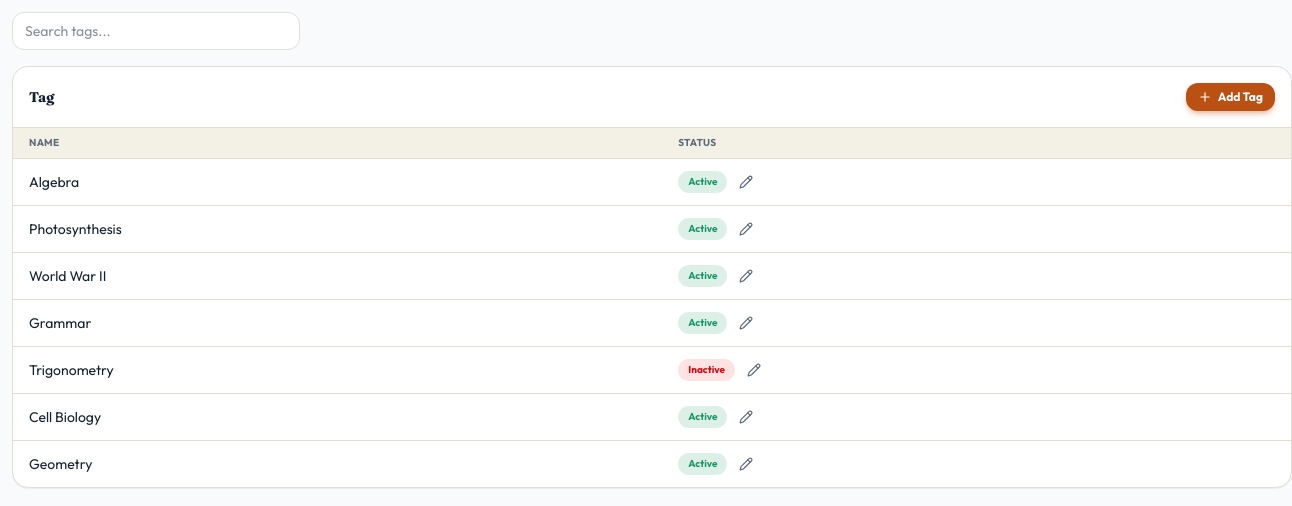
Test case: TagManagement › search narrows the visible tag list by name, case-insensitively
Check: the text "Algebra" is shown, box x1=13 y1=159 x2=662 y2=206
Check: the text "Trigonometry" is shown, box x1=13 y1=347 x2=662 y2=394
Type "trig" into the field labelled "Search tags" at (156, 31), box x1=12 y1=12 x2=300 y2=50
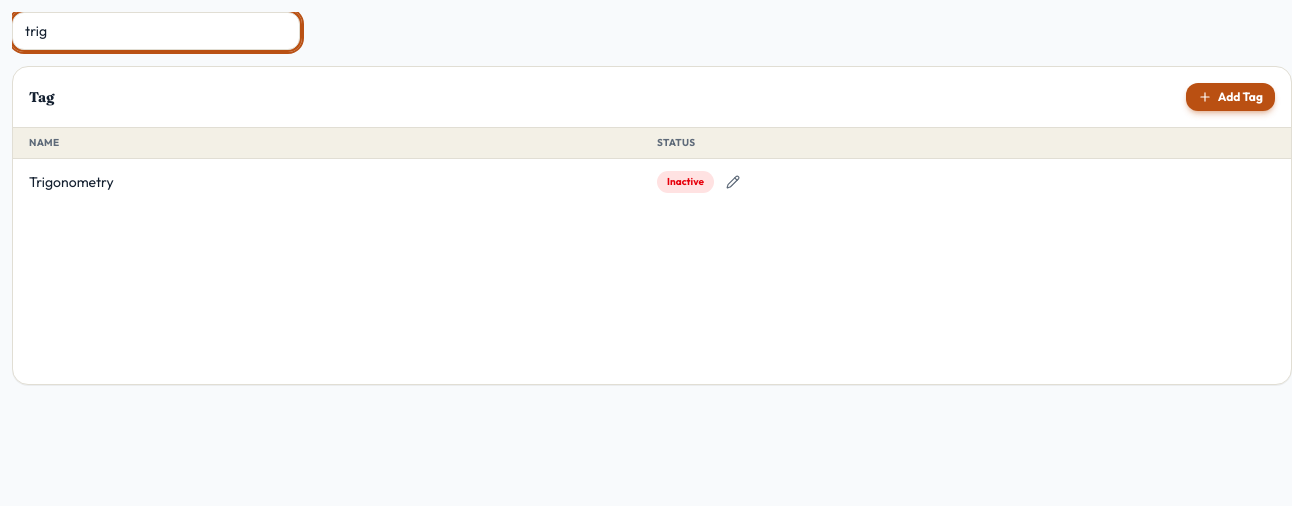
Check: the text "Trigonometry" is shown, box x1=13 y1=159 x2=641 y2=205
Check: the text "Algebra" is gone
